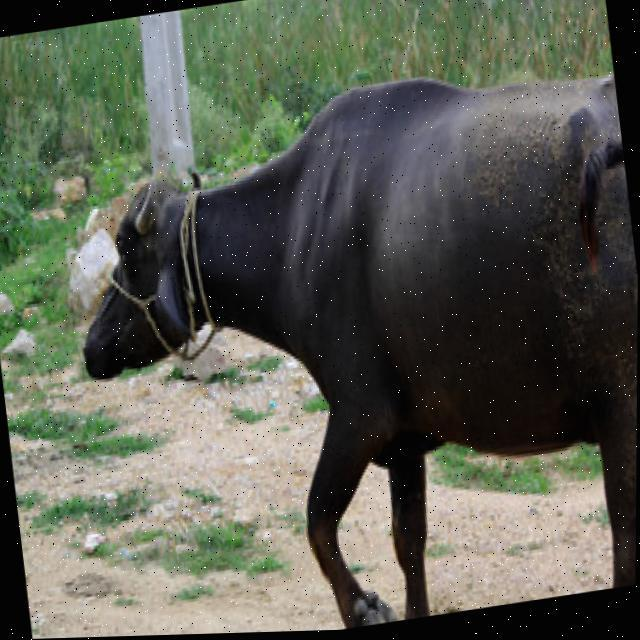Buffalo: (46, 43, 640, 638)
